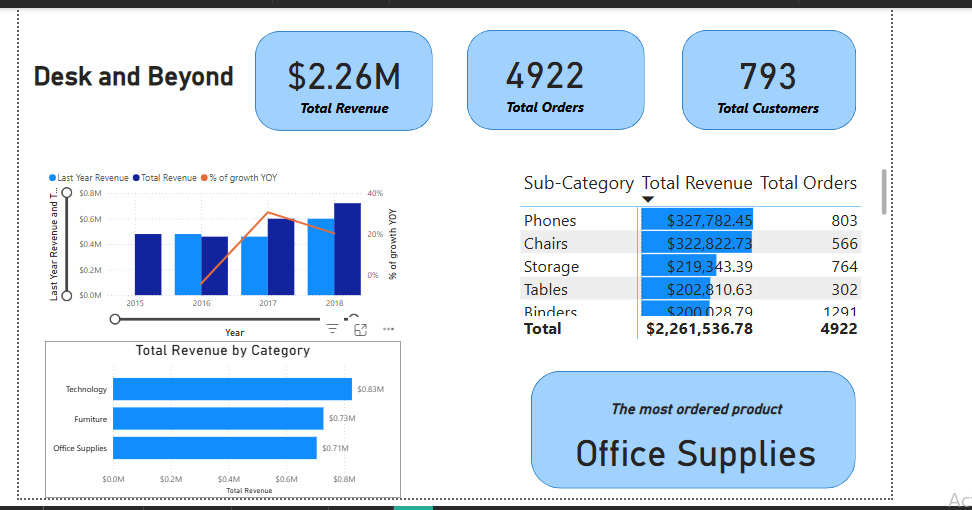

The page's visual inventory and layout, read from the dashboard file:
{"tool":"powerbi","page":{"name":"Dashboard","canvas":[1280,720],"ordinal":0},"visuals":[{"type":"lineClusteredColumnComboChart","fields":{"Category":["Calendar.Date.Variation.Date Hierarchy.Year"],"Y":["Measures (2).Same periodlastyear revenue","Measures (2).Total Revenue"],"Y2":["Measures (2).% of growth YOY"]},"box":[38.2,229.2,523.1,260.1],"z":0},{"type":"shape","title":"Card","box":[346.8,34,261,146.6],"z":1000},{"type":"shape","title":"Card","box":[657.9,32.2,261,146.6],"z":2000},{"type":"shape","title":"Card","box":[974.3,32.2,255.6,146.6],"z":3000},{"type":"card","fields":{"Values":["Measures (2).Total Revenue"]},"box":[368.3,39.3,218.1,134.1],"z":4000},{"type":"card","fields":{"Values":["Measures (2).Total Orders"]},"box":[657.9,34,228.8,143],"z":5000},{"type":"card","fields":{"Values":["Measures (2).Total Customers"]},"box":[990.4,39.3,219.9,134.1],"z":6000},{"type":"pivotTable","fields":{"Rows":["Sales.Sub-Category"],"Values":["Measures (2).Total Revenue","Measures (2).Total Orders"]},"box":[731.4,230.5,548.6,261],"z":7000},{"type":"group","id":"g1","title":"Most ordered product","box":[752,533.5,477,173],"z":8000},{"type":"clusteredBarChart","fields":{"Category":["Products.Category"],"Y":["Measures (2).Total Revenue"]},"box":[38.2,489.3,523.1,230.7],"z":9000},{"type":"textbox","box":[16.1,71.5,312.8,66.1],"z":10000},{"type":"shape","title":"Card","box":[752,533.5,477.5,172.7],"z":12000,"group":"g1"},{"type":"card","title":"The most ordered product","fields":{"Values":["Min(Sales.Category)"]},"box":[787.6,576.7,414,116.8],"z":12500,"group":"g1"}]}

Visuals, with their boxes on the page's 1280x720 design canvas (x1, y1, x2, y2). These are canvas units, not pixel positions in the 972x510 screenshot, which may show the page scaled, cropped or inside an application window:
lineClusteredColumnComboChart - Calendar.Date.Variation.Date Hierarchy.Year x Measures (2).Same periodlastyear revenue: [x1=38, y1=229, x2=561, y2=489]
"Card" shape: [x1=347, y1=34, x2=608, y2=181]
"Card" shape: [x1=658, y1=32, x2=919, y2=179]
"Card" shape: [x1=974, y1=32, x2=1230, y2=179]
card - Measures (2).Total Revenue: [x1=368, y1=39, x2=586, y2=173]
card - Measures (2).Total Orders: [x1=658, y1=34, x2=887, y2=177]
card - Measures (2).Total Customers: [x1=990, y1=39, x2=1210, y2=173]
pivotTable - Sales.Sub-Category x Measures (2).Total Revenue: [x1=731, y1=230, x2=1280, y2=492]
"Most ordered product" group: [x1=752, y1=534, x2=1229, y2=706]
clusteredBarChart - Products.Category x Measures (2).Total Revenue: [x1=38, y1=489, x2=561, y2=720]
textbox: [x1=16, y1=72, x2=329, y2=138]
"Card" shape: [x1=752, y1=534, x2=1230, y2=706]
"The most ordered product" card: [x1=788, y1=577, x2=1202, y2=694]
